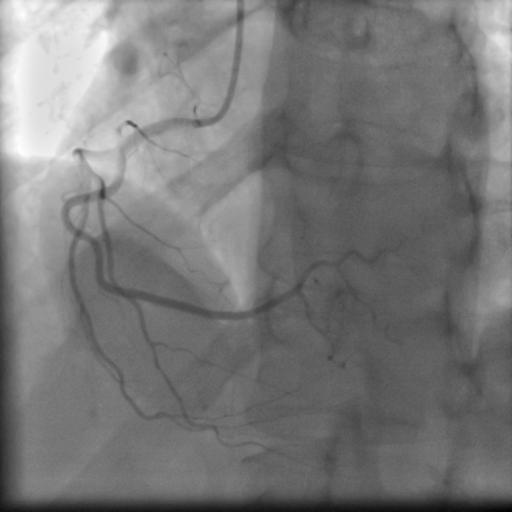Stenosis: (74, 222, 104, 267)
